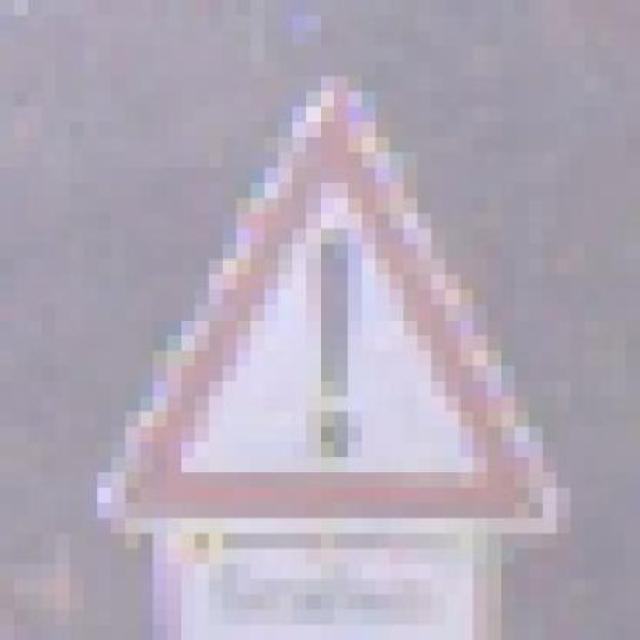Attention Please-: (41, 75, 584, 548)
